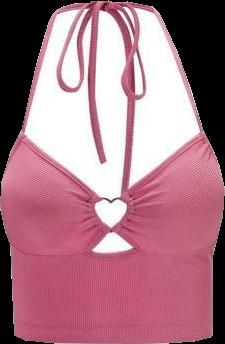Bodice: (0, 119, 224, 343)
Neckline: (19, 129, 204, 203), (9, 241, 215, 258), (92, 197, 128, 230), (87, 230, 136, 254)
Waistline: (12, 332, 213, 343)
